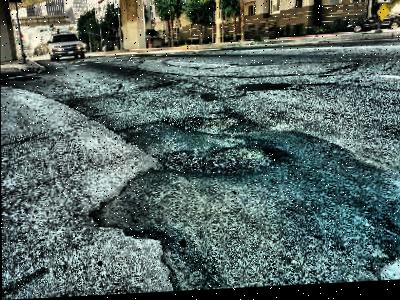pothole: (151, 144, 278, 183), (158, 113, 242, 139)
